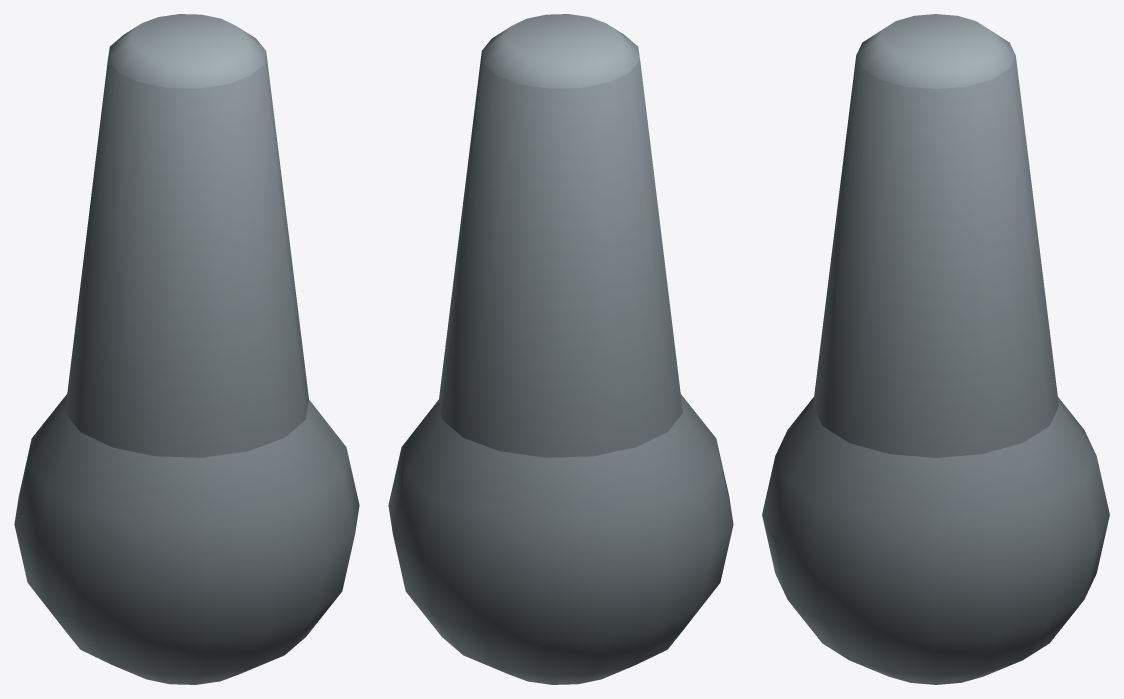
Rendered from Pestle.obj.
3 views of the same model, side by side, from view 1: azimuth 30°, elevation 25°; view 2: azimuth 150°, elevation 25°; view 3: azimuth 270°, elevation 25° (orthographic).
Visible parts, largest first — view 1: Pestle; view 2: Pestle; view 3: Pestle.
Part boxes in pixels (box(x1,y1,x2,y2)): Pestle: box(14, 14, 359, 684); Pestle: box(388, 14, 733, 684); Pestle: box(762, 14, 1109, 684).
Bounding box in the file's own units: 0.2 × 0.4 × 0.2.
1 material, 1 textured.
